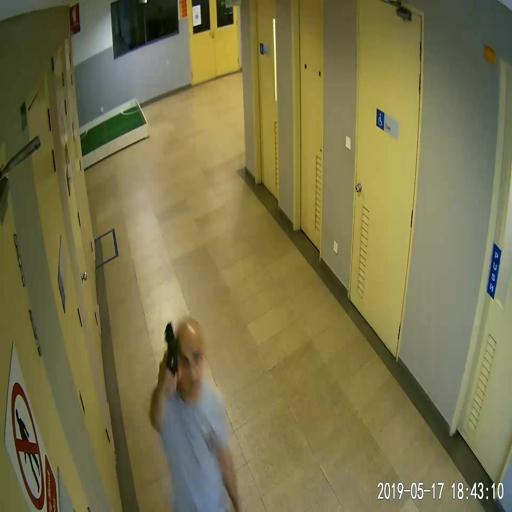pistol: (163, 321, 178, 384)
